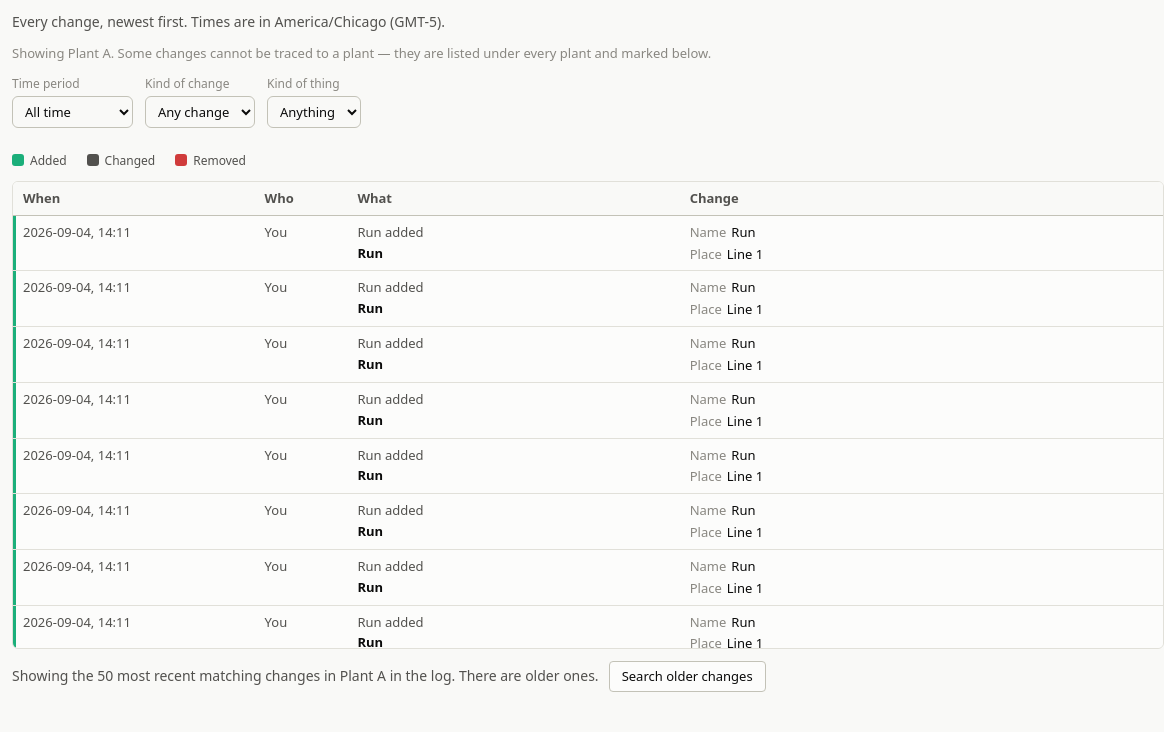
Test: the plant filter narrows the log, and the server does the narrowing › ⭐⭐ the footer names the plant and only says `all` when the server says so
Expected: the text "Showing the 50 most recent matching changes in Plant A in the log." is shown, x1=12 y1=666 x2=599 y2=685
Click the button "Search older changes" at (687,676), box x1=609 y1=661 x2=766 y2=692
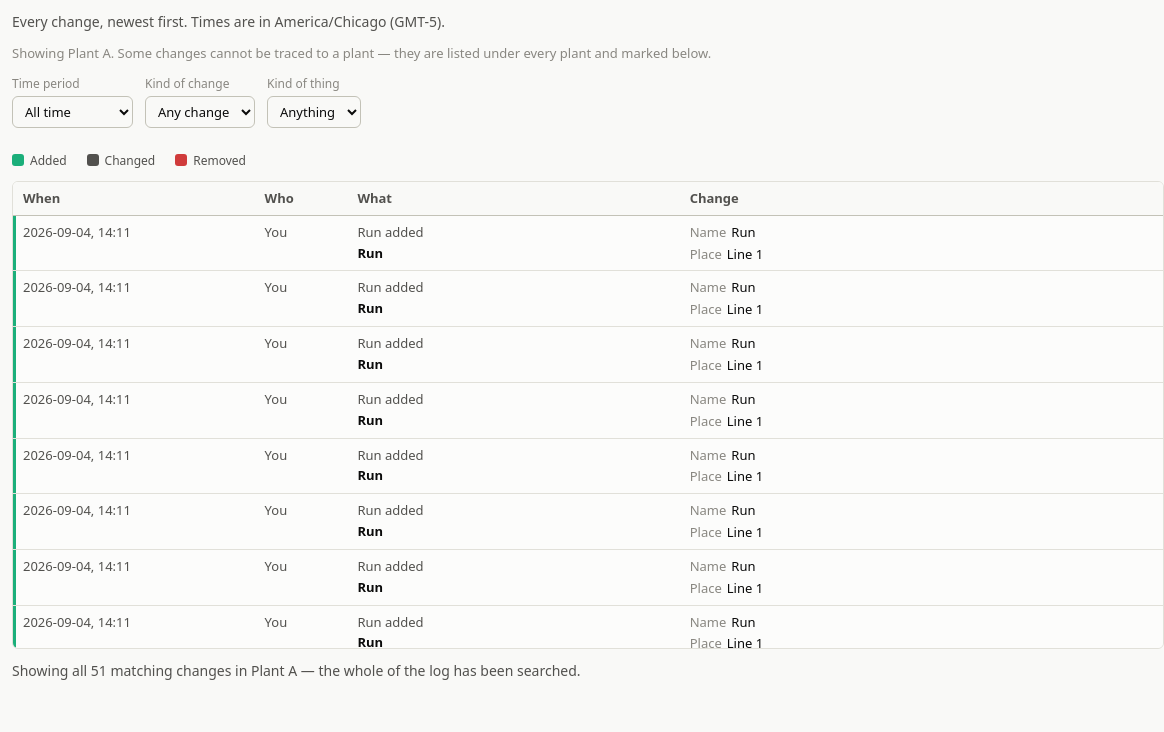
Result: the text "Showing all 51 matching changes in Plant A — the whole of the log has been searched." is shown at x1=12 y1=661 x2=581 y2=680
